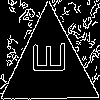E: (24, 41, 65, 75)
